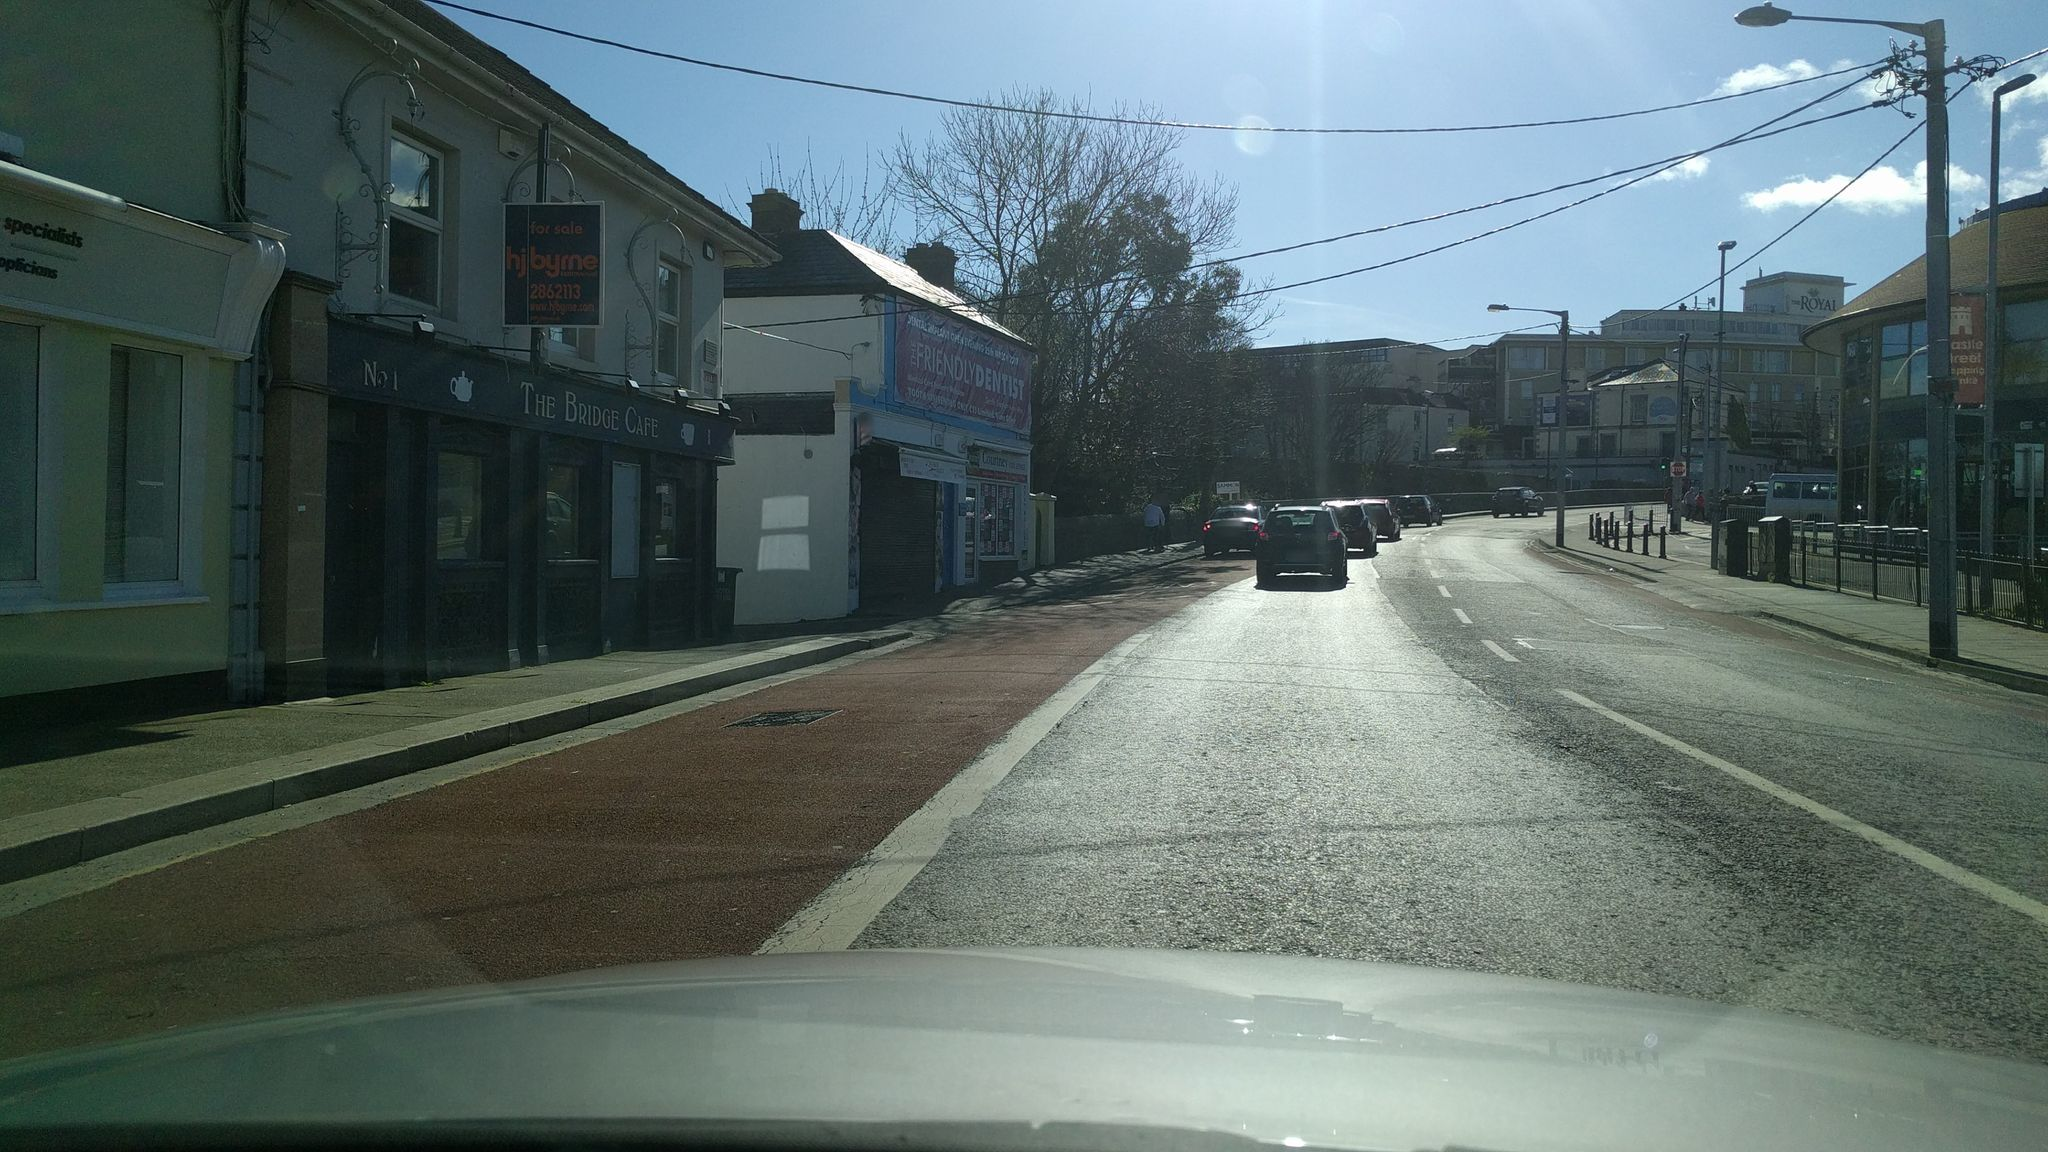property sign: (494, 186, 626, 331)
vinyl banner: (883, 281, 1051, 442)
